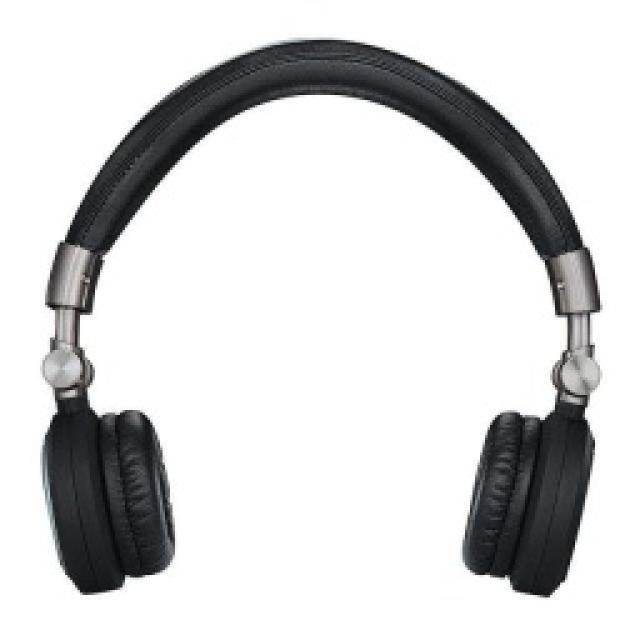headphones: (38, 35, 602, 597)
